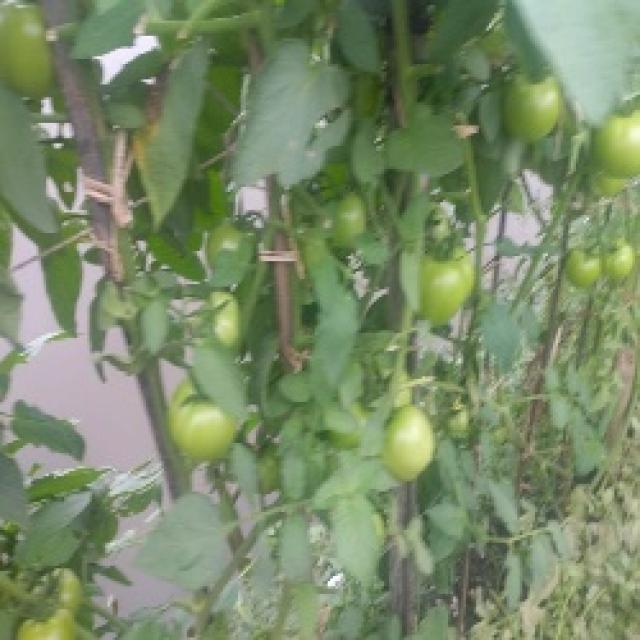tomato: (1, 1, 69, 106), (496, 68, 574, 153), (375, 403, 450, 489), (419, 246, 481, 344), (168, 381, 245, 459), (586, 104, 640, 182), (23, 554, 93, 611), (189, 280, 241, 350), (1, 595, 79, 640), (201, 203, 248, 256), (602, 239, 640, 293), (566, 242, 603, 293), (329, 195, 372, 237)
